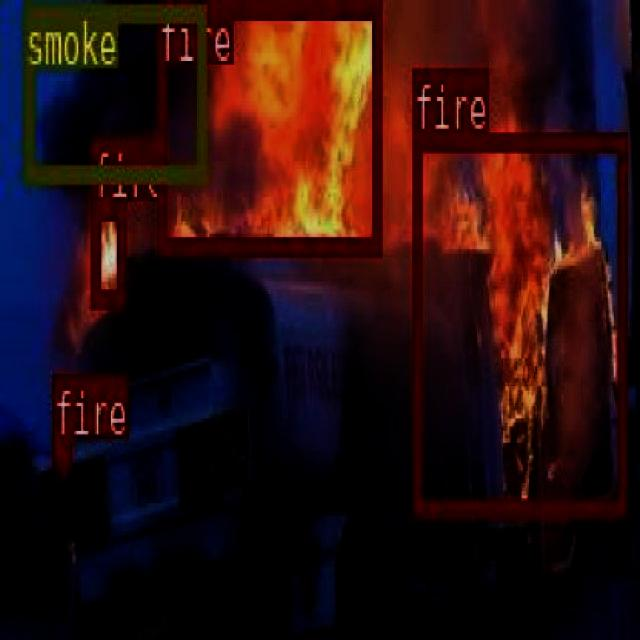fire: (410, 130, 626, 516), (156, 0, 379, 249), (90, 200, 124, 302), (51, 434, 70, 466)
smoke: (22, 3, 206, 180)
